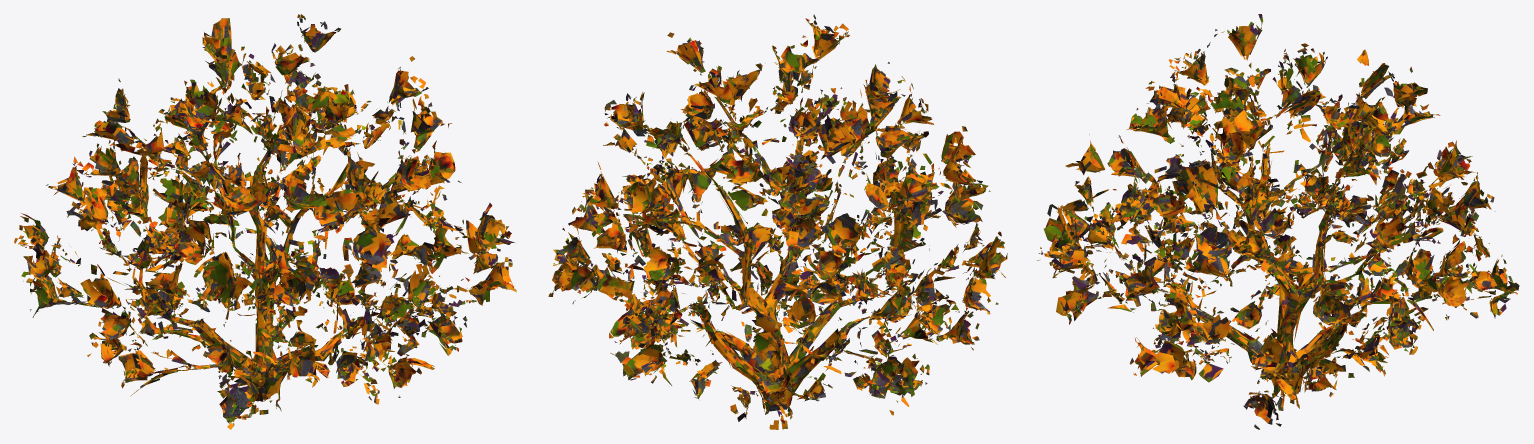
The model's file is veg_shrub_azalea_01.obj.
3 views of the same model, side by side, from view 1: azimuth 30°, elevation 25°; view 2: azimuth 150°, elevation 25°; view 3: azimuth 270°, elevation 25° (orthographic). The views are drawn at different scales.
Visible parts, largest first — view 1: veg_shrub_azalea_01; view 2: veg_shrub_azalea_01; view 3: veg_shrub_azalea_01.
Boxes of the visible parts, x1,y1,x2,y2 form: veg_shrub_azalea_01: [14, 14, 516, 429]; veg_shrub_azalea_01: [548, 14, 1007, 429]; veg_shrub_azalea_01: [1037, 14, 1519, 429].
Bounding box in the file's own units: 1.69 × 1.5 × 1.8.
1 material, 1 textured.
